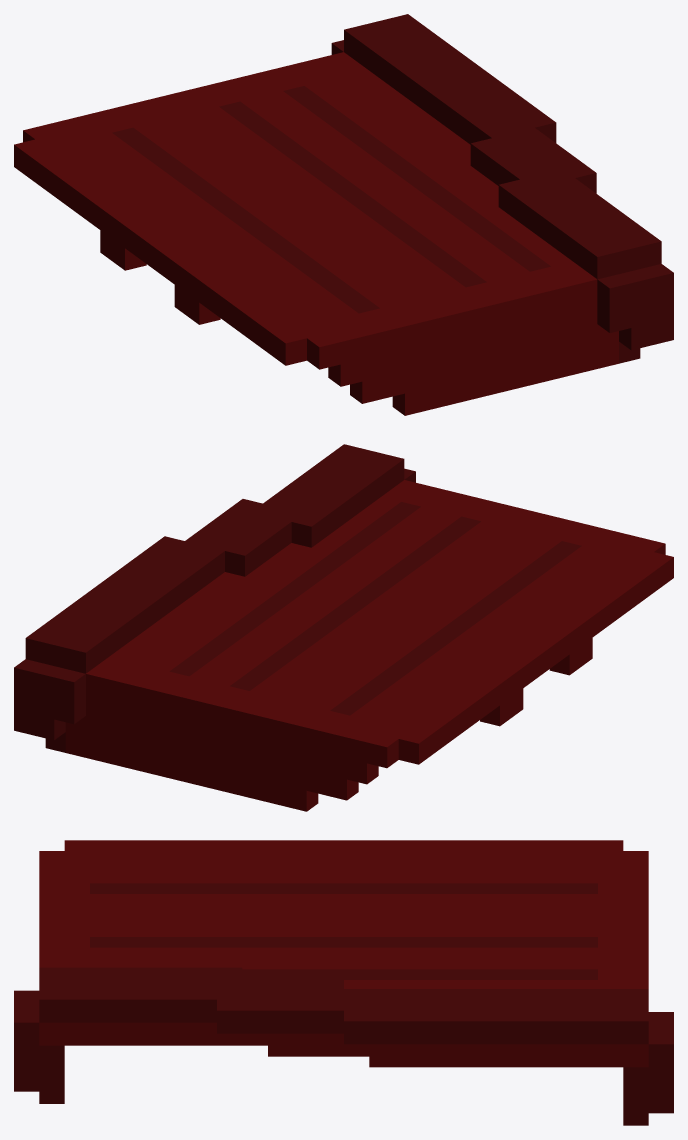
The model's file is F_BedBlanketEnd.obj.
3 views of the same model, one above another, from view 1: azimuth 30°, elevation 25°; view 2: azimuth 150°, elevation 25°; view 3: azimuth 270°, elevation 25° (orthographic). The views are drawn at different scales.
Visible parts, largest first — view 1: F_BedBlanketEnd.001; view 2: F_BedBlanketEnd.001; view 3: F_BedBlanketEnd.001.
Part boxes in pixels (x1=…): F_BedBlanketEnd.001: x1=14, y1=14, x2=673, y2=415; F_BedBlanketEnd.001: x1=14, y1=444, x2=673, y2=811; F_BedBlanketEnd.001: x1=14, y1=840, x2=673, y2=1125.
Bounding box in the file's own units: 1.9 × 0.5 × 2.6.
Materials: 1 (1 with a texture image).
